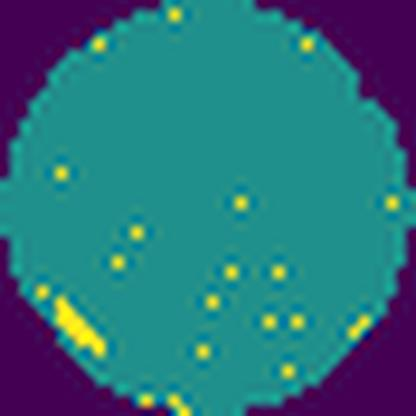Loc: (54, 293, 110, 359)
